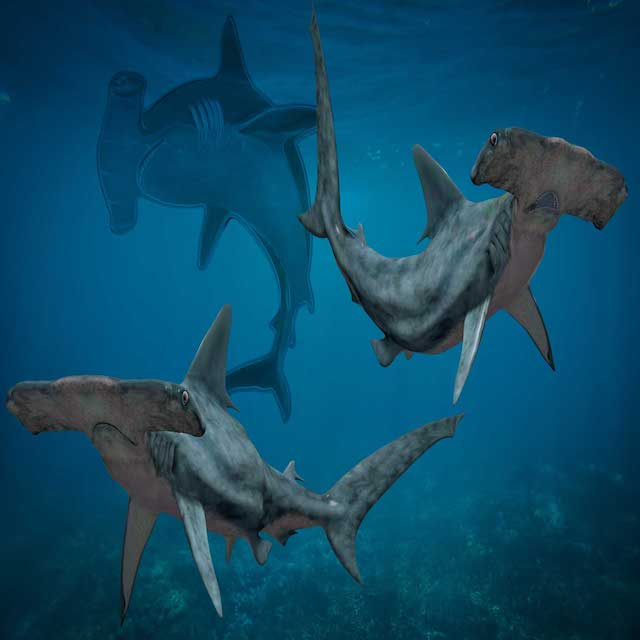hammerhead: (25, 16, 285, 282), (1, 337, 276, 515), (447, 137, 640, 261)
